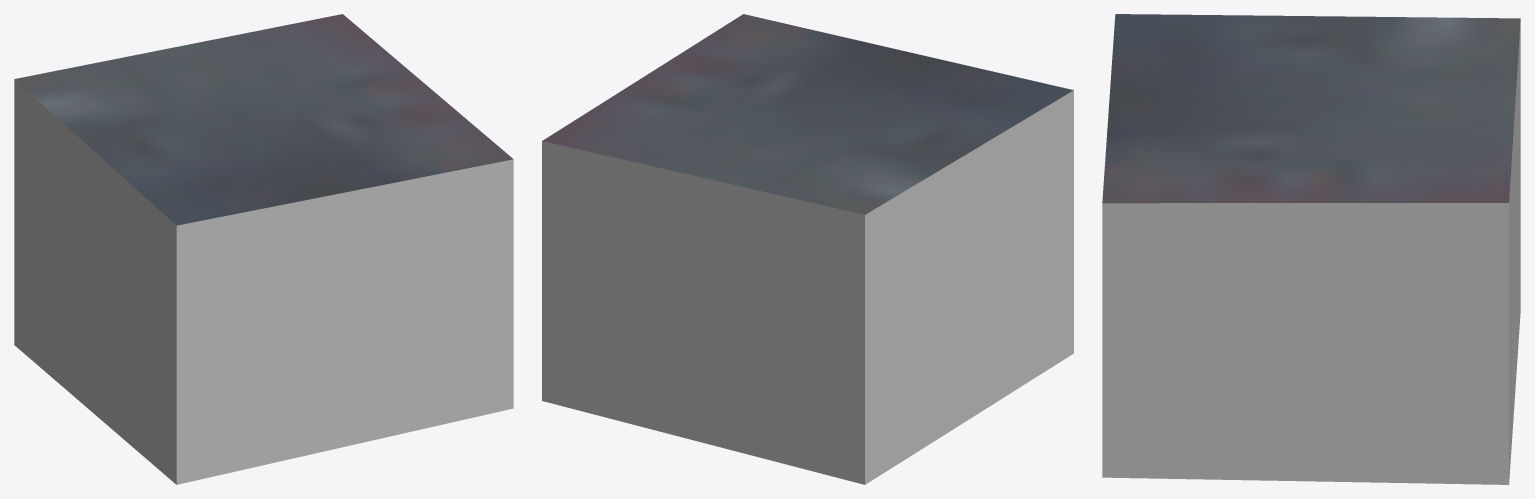
File: DEBW_0010007Tx3z.gltf
3 views of the same model, side by side, from view 1: azimuth 30°, elevation 25°; view 2: azimuth 150°, elevation 25°; view 3: azimuth 270°, elevation 25° (orthographic). The views are drawn at different scales.
Visible parts, largest first — view 1: Z_UP; view 2: Z_UP; view 3: Z_UP.
Boxes of the visible parts, bbox=[...] form: Z_UP: bbox=[14, 14, 513, 484]; Z_UP: bbox=[542, 14, 1073, 484]; Z_UP: bbox=[1102, 14, 1520, 484].
Bounding box in the file's own units: 3.03 × 2.23 × 2.89.
Materials: 2 (1 with a texture image).
